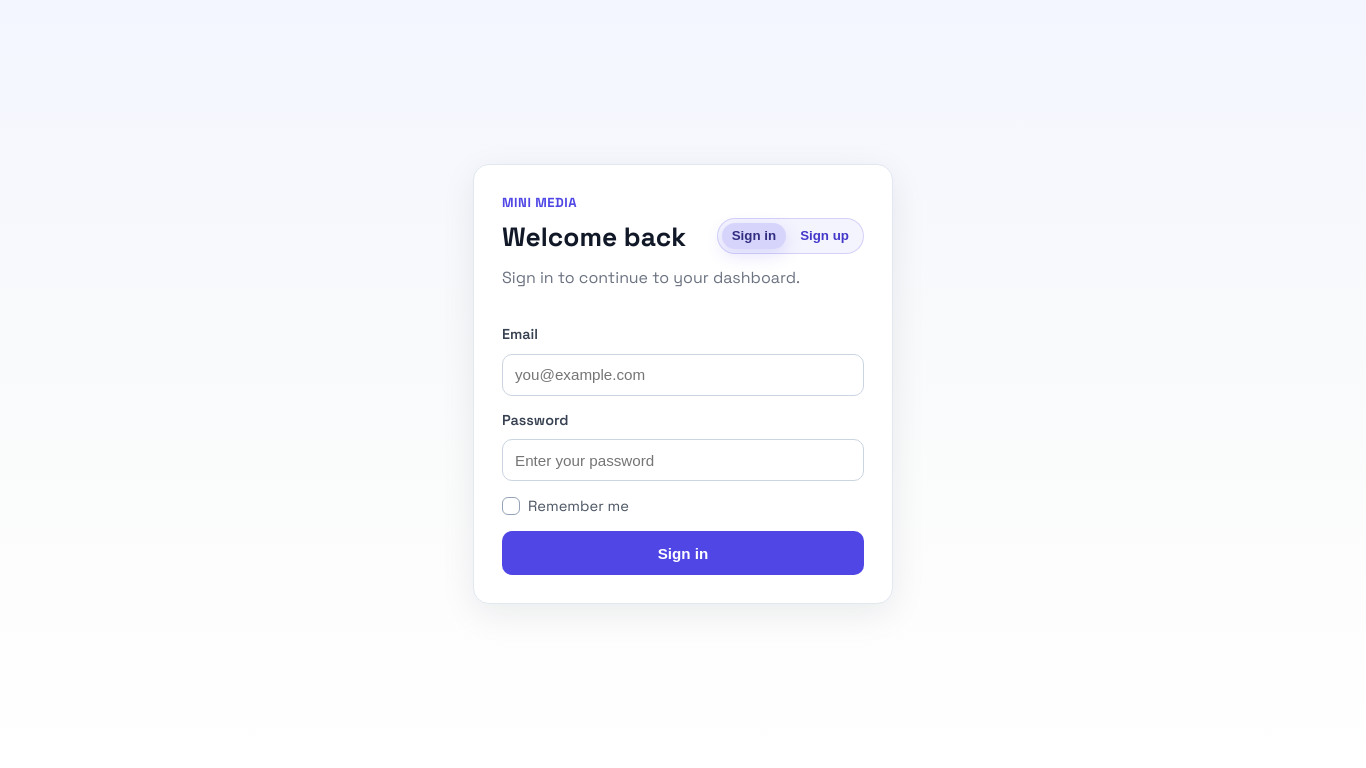
Test: App › validates before sending requests
Click the button "Sign in" below "Remember me" at (683, 553), box [502,531,864,575]
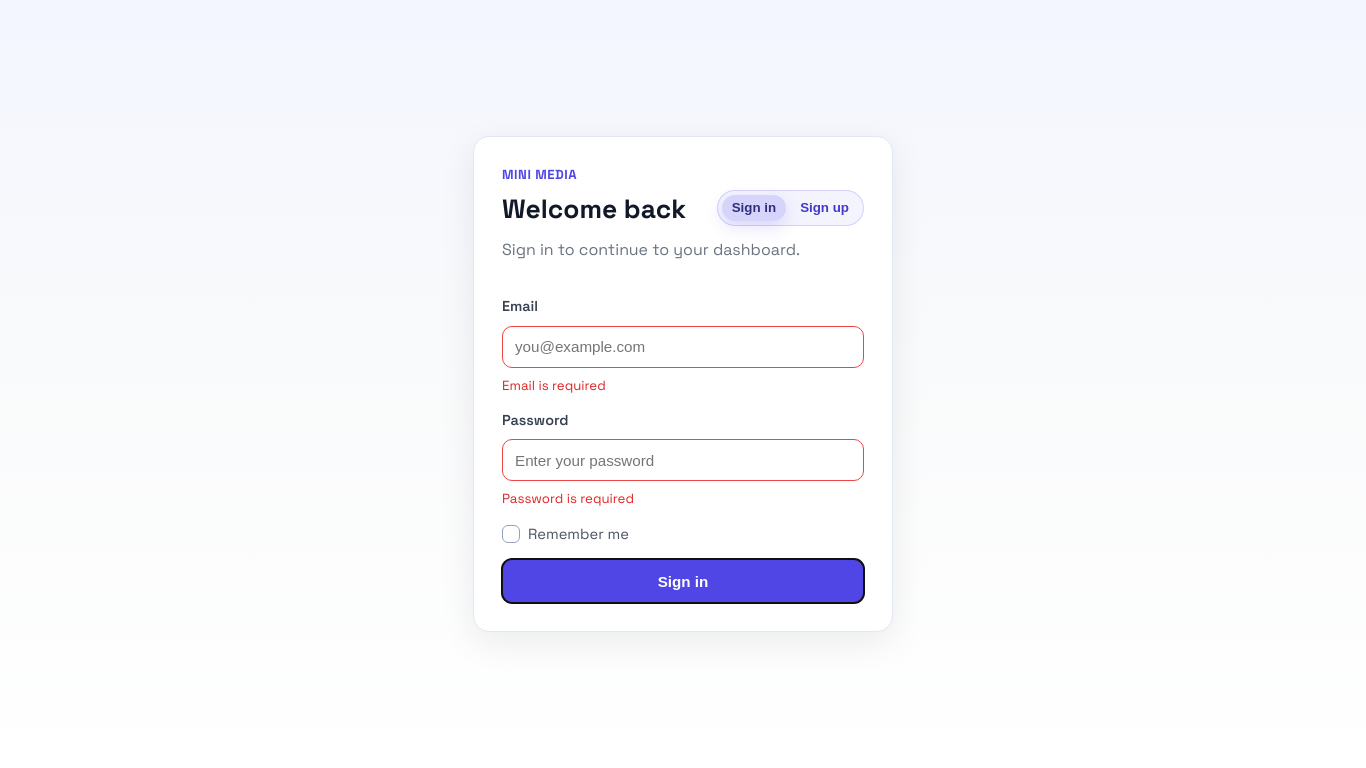
expect the text "Email is required" is shown: met, box [502,377,606,394]
expect the text "Password is required" is shown: met, box [502,490,634,507]
